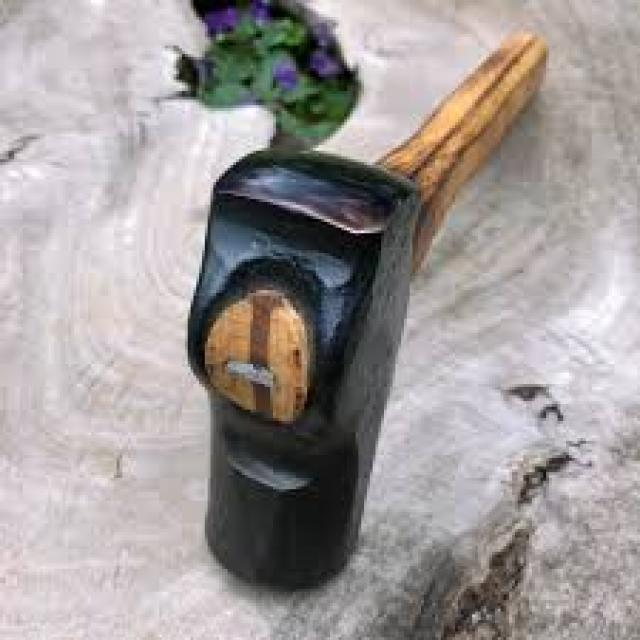hammer: (186, 21, 554, 602)
